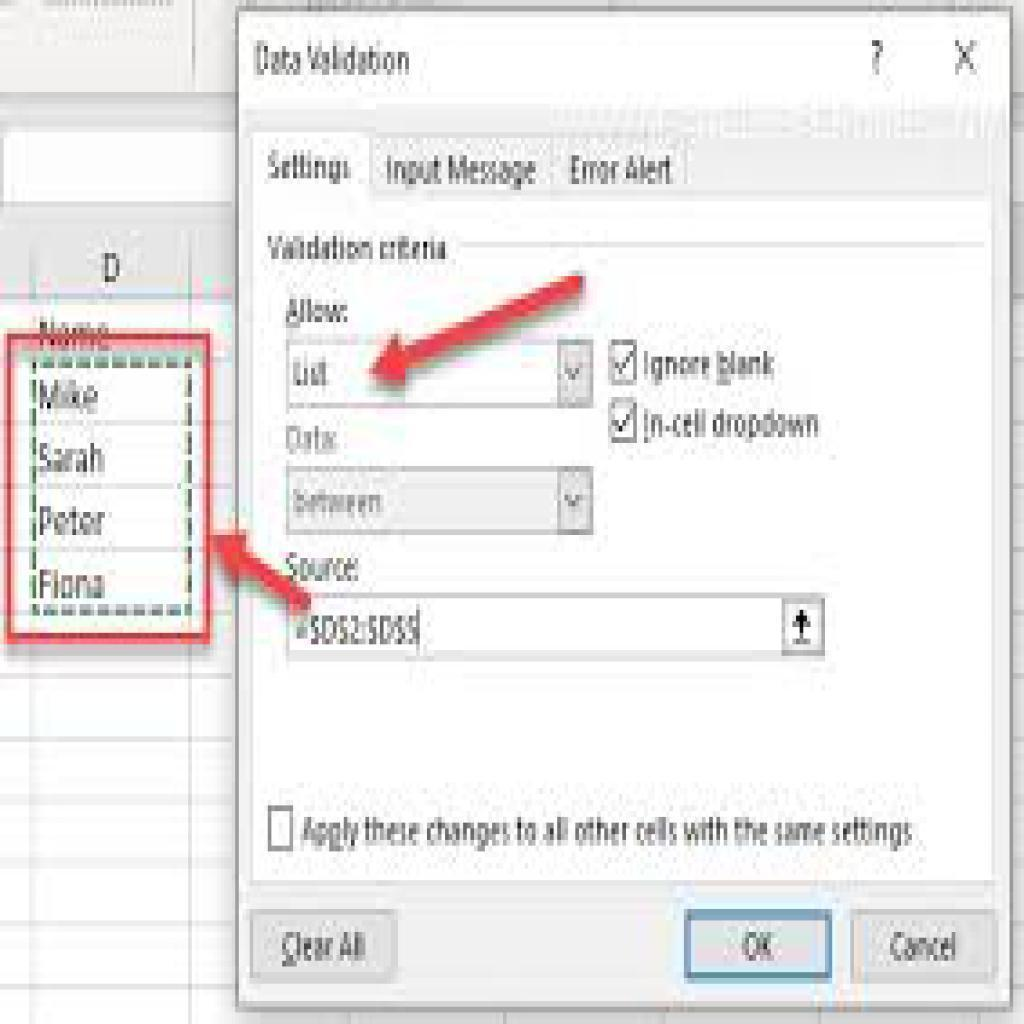button: (246, 905, 398, 983), (850, 910, 1001, 984), (684, 910, 830, 981)
checkbox: (607, 397, 640, 448), (264, 803, 297, 854), (608, 334, 637, 386)
dropdown: (285, 465, 595, 536), (283, 340, 596, 409)
icon: (946, 31, 985, 84), (866, 34, 890, 81)
input: (283, 595, 783, 655)
